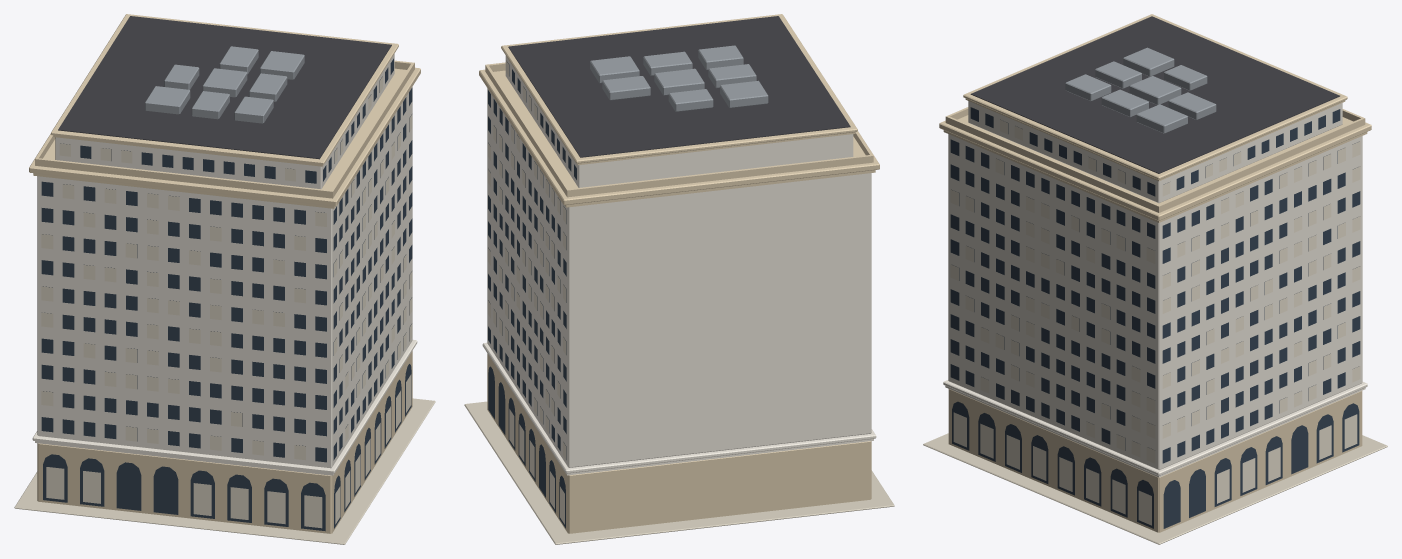
The model's file is pge-annex.glb.
The picture shows the model from 3 angles, left to right: view 1: azimuth 30°, elevation 25°; view 2: azimuth 150°, elevation 25°; view 3: azimuth 270°, elevation 25°; orthographic projection. The views are drawn at different scales.
Parts seen in each view (by area): view 1: pge-annex_body, pge-annex_night_glow; view 2: pge-annex_body, pge-annex_night_glow; view 3: pge-annex_body, pge-annex_night_glow.
Part boxes in pixels (left/top/right/bottom): pge-annex_body: left=14, top=14, right=435, bottom=544; pge-annex_night_glow: left=41, top=76, right=412, bottom=528; pge-annex_body: left=464, top=14, right=894, bottom=544; pge-annex_night_glow: left=487, top=60, right=566, bottom=524; pge-annex_body: left=923, top=14, right=1387, bottom=544; pge-annex_night_glow: left=950, top=119, right=1360, bottom=525.
Size of the model in its own units: 65.75 by 55.8 by 65.31.
